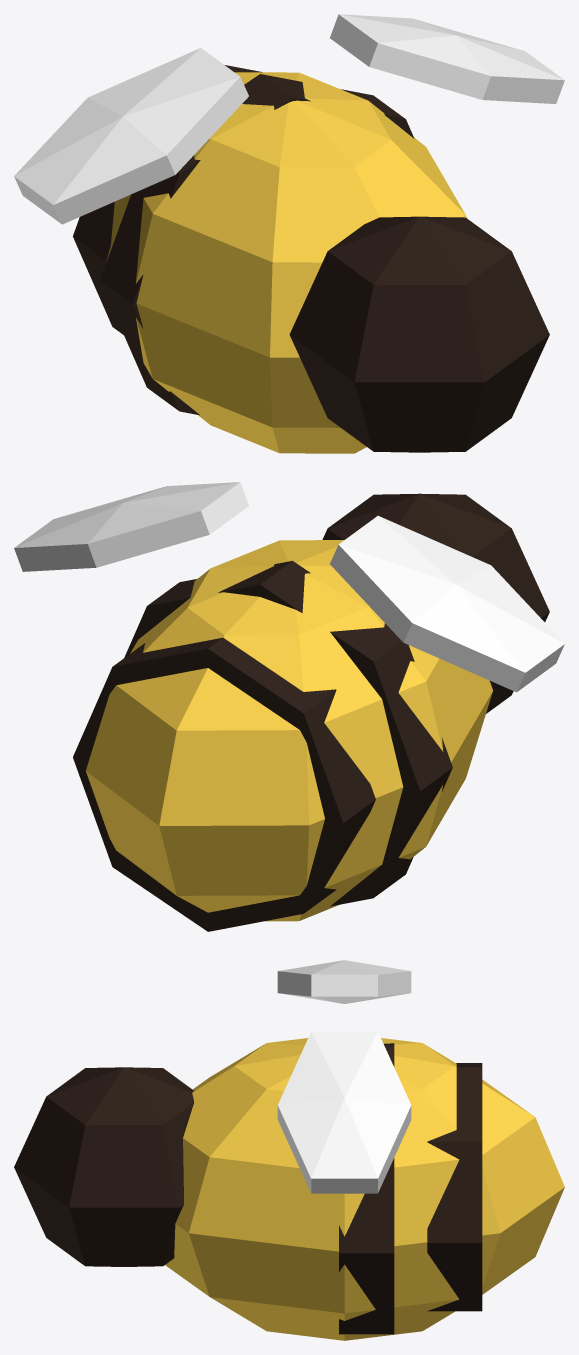
Rendered from prop_bee.glb.
The picture shows the model from 3 angles, top to bottom: view 1: azimuth 30°, elevation 25°; view 2: azimuth 150°, elevation 25°; view 3: azimuth 270°, elevation 25°; orthographic projection. The views are drawn at different scales.
Parts seen in each view (by area): view 1: prop_bee; view 2: prop_bee; view 3: prop_bee.
Boxes of the visible parts, x1=… form: prop_bee: x1=14, y1=14, x2=564, y2=453; prop_bee: x1=14, y1=482, x2=564, y2=931; prop_bee: x1=14, y1=960, x2=564, y2=1340.
Bounding box in the file's own units: 0.2268 × 0.1631 × 0.25.
